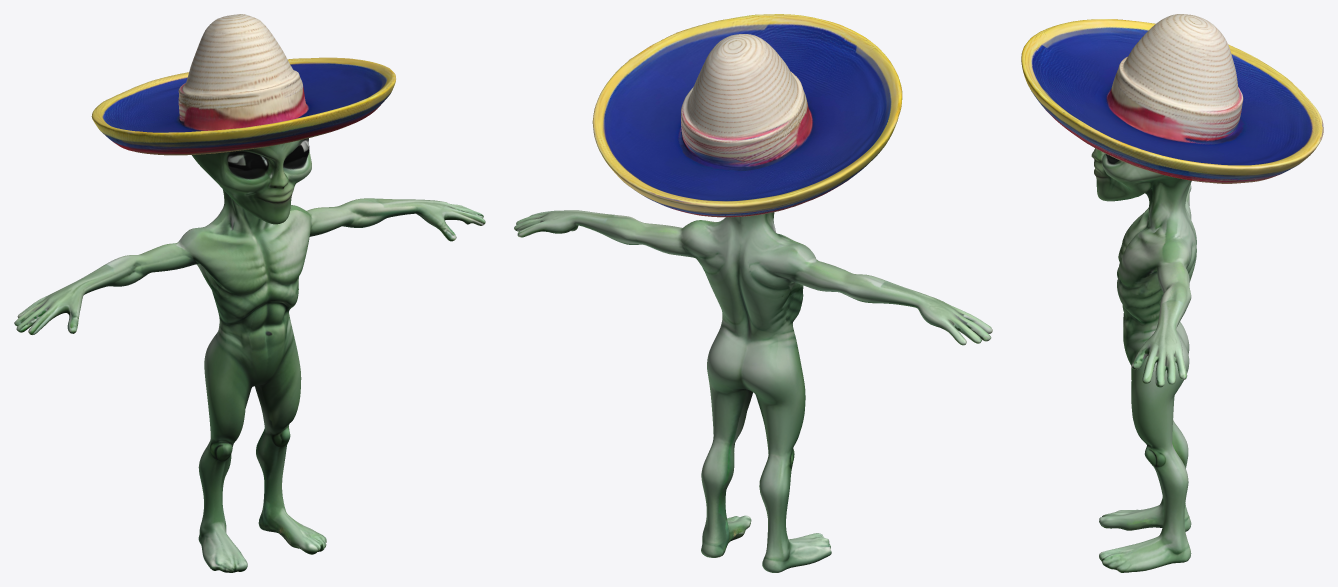
File: marcianito.glb
3 renders of one model, left to right at view 1: azimuth 30°, elevation 25°; view 2: azimuth 150°, elevation 25°; view 3: azimuth 270°, elevation 25°, orthographic.
Parts seen in each view (by area): view 1: geometry_0; view 2: geometry_0; view 3: geometry_0.
Boxes of the visible parts, <box> form: geometry_0: <box>14,14,485,572</box>; geometry_0: <box>514,14,992,572</box>; geometry_0: <box>1021,14,1323,572</box>.
Size of the model in its own units: 1.73 by 1.83 by 0.9506.
1 material, 1 textured.
